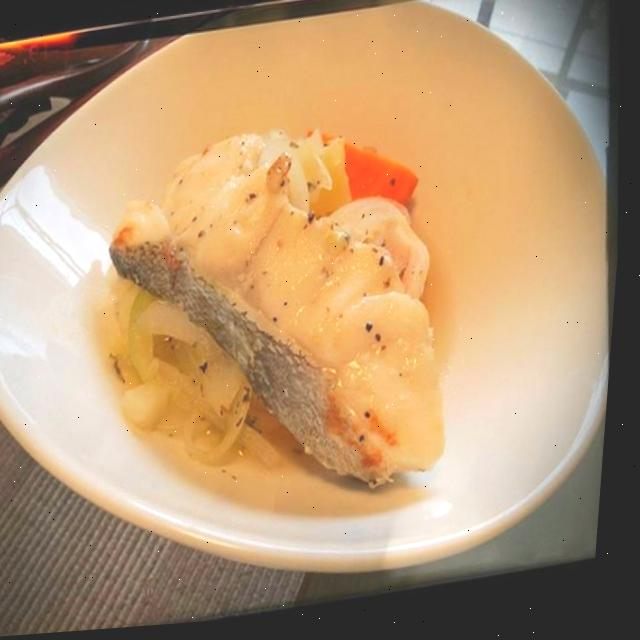汤锅炖物: (0, 0, 635, 621)
